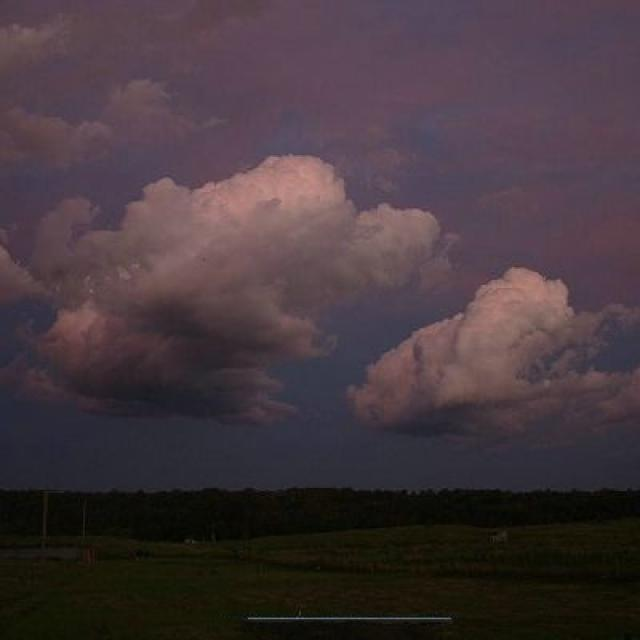As: (5, 153, 475, 430)
